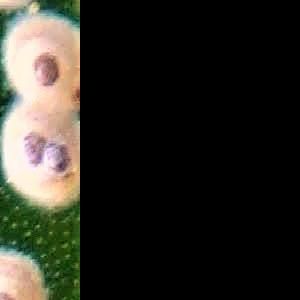Femea: (4, 14, 79, 111), (0, 113, 43, 206), (44, 112, 79, 210)
